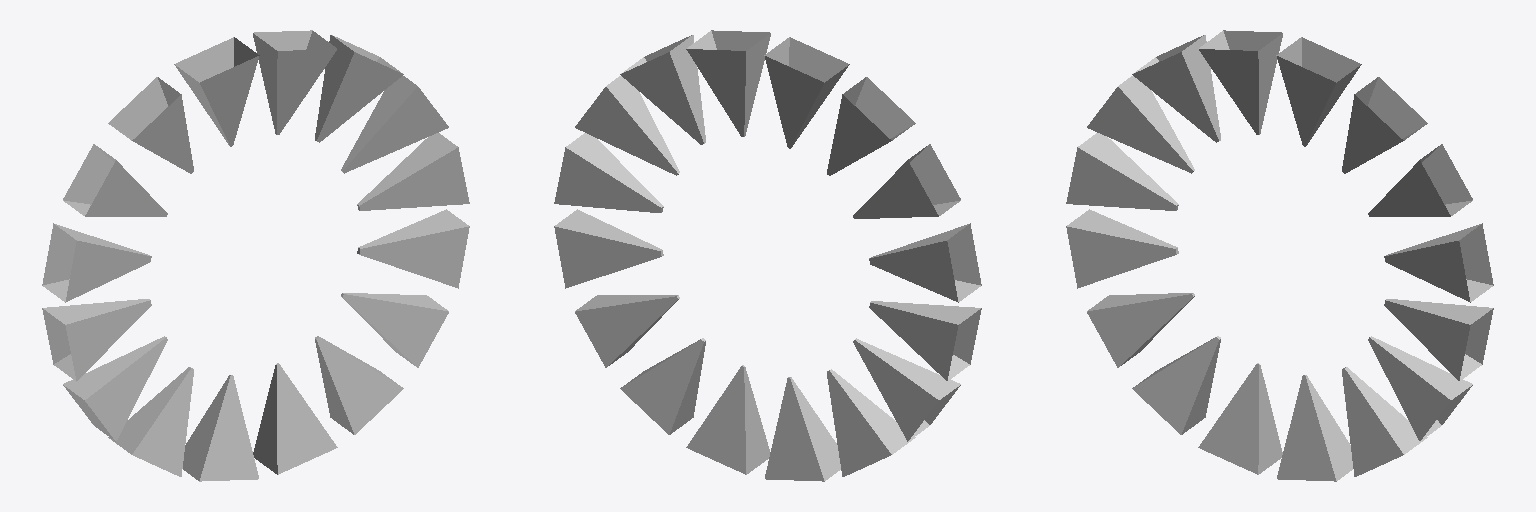
File: gnawer_teeth_3.obj
3 views of the same model, side by side, from view 1: azimuth 30°, elevation 25°; view 2: azimuth 150°, elevation 25°; view 3: azimuth 330°, elevation 25° (orthographic).
Visible parts, largest first — view 1: gnawer_teeth_Cylinder.001; view 2: gnawer_teeth_Cylinder.001; view 3: gnawer_teeth_Cylinder.001.
Boxes of the visible parts, box(x1,y1,x2,y2) form: gnawer_teeth_Cylinder.001: box(42, 30, 469, 481); gnawer_teeth_Cylinder.001: box(554, 30, 981, 481); gnawer_teeth_Cylinder.001: box(1066, 30, 1493, 481).
Bounding box in the file's own units: 2.64 × 2.64 × 0.2856.